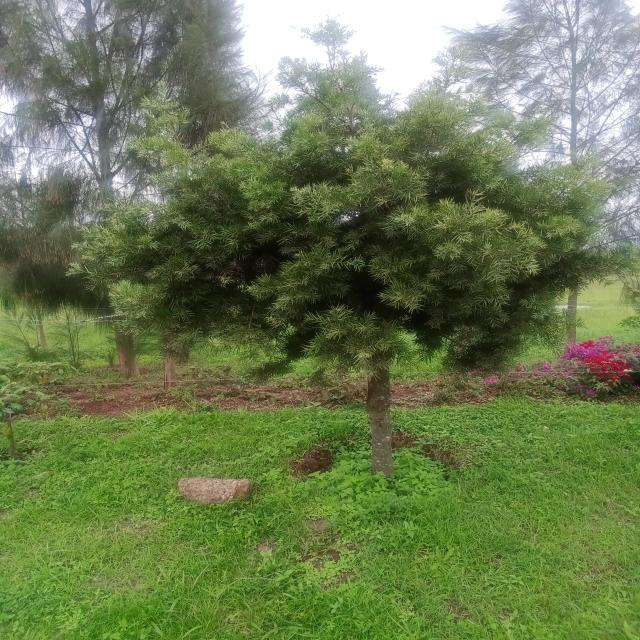Podocarpus falcatus: (64, 28, 629, 459)
